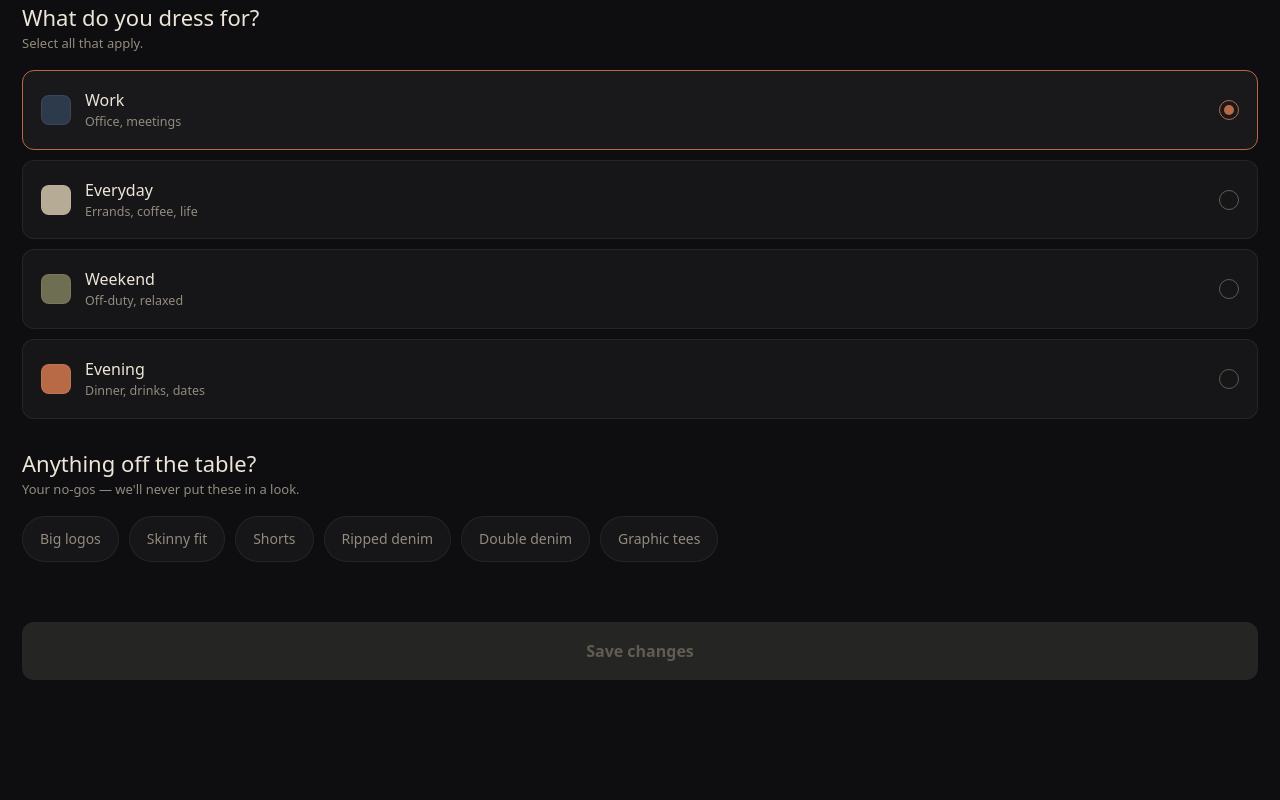
Test: undoing a change disables Save again
(page scrolled)
Click the button "Shorts".
click(274, 539)  # box [235,516,314,562]
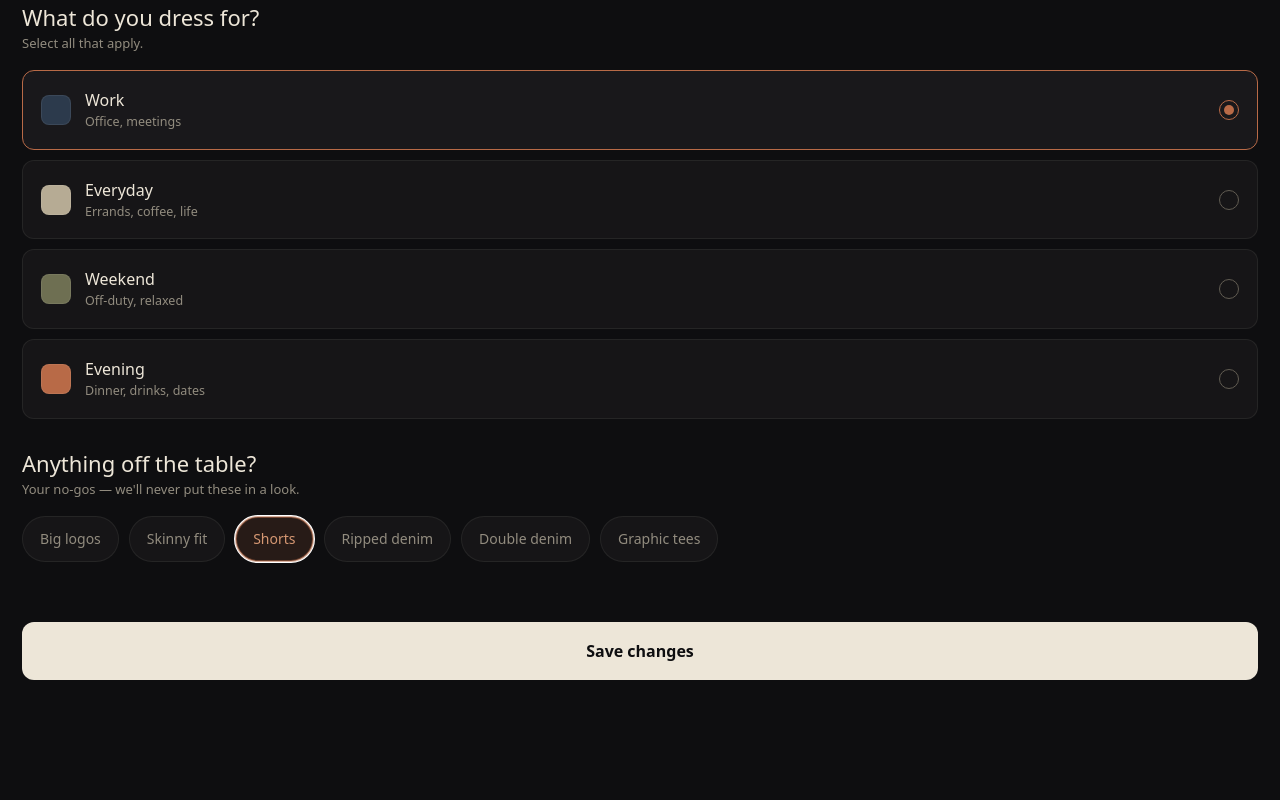
Click the button "Shorts".
click(274, 539)  # box [235,516,314,562]
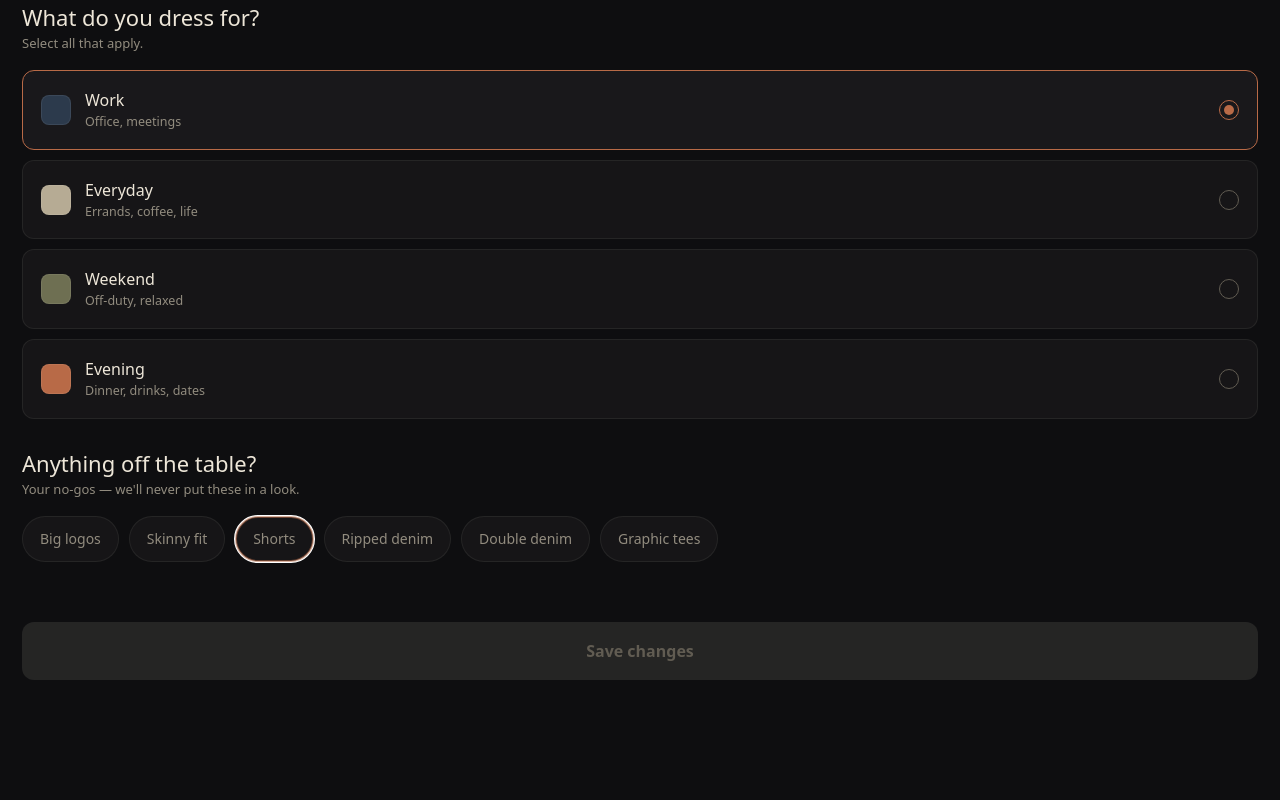
Result: the button "Save changes" is disabled at [22,622,1258,680]
